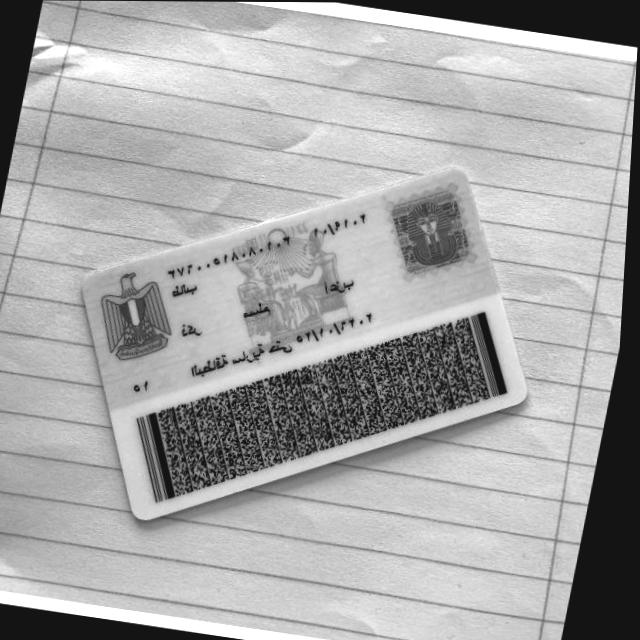back: (84, 167, 525, 517)
